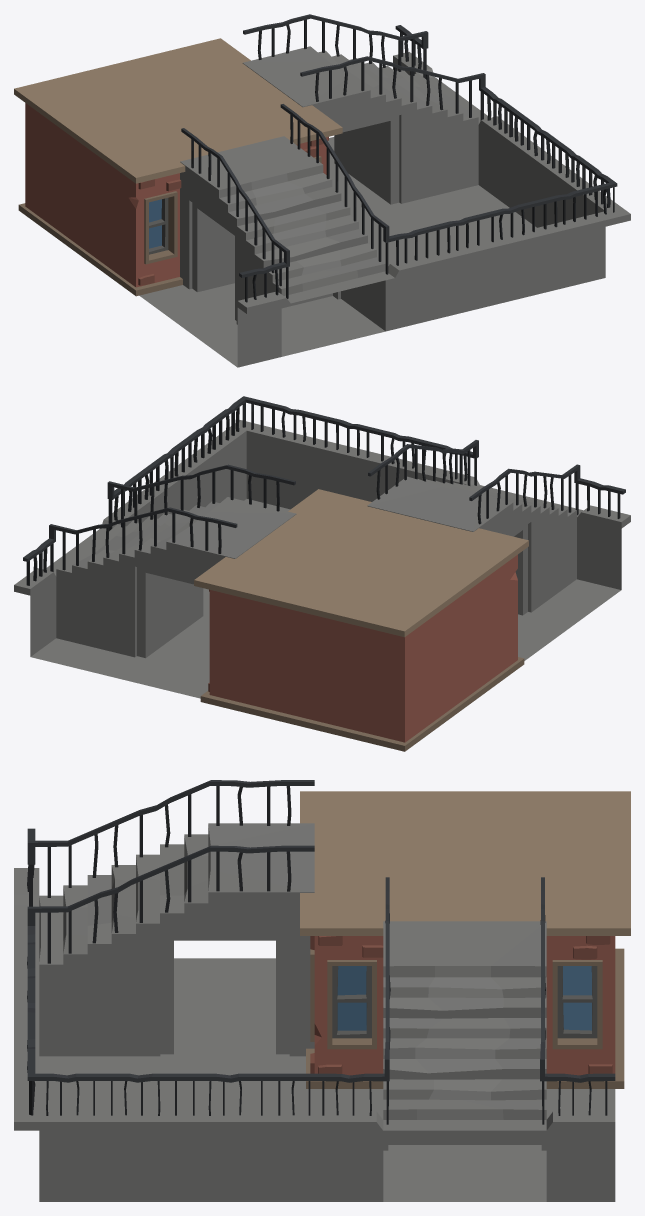
Rendered from SM_Bld_Apartment_Stairs_Corner_01.glb.
3 views of the same model, one above another, from view 1: azimuth 30°, elevation 25°; view 2: azimuth 150°, elevation 25°; view 3: azimuth 270°, elevation 25° (orthographic). The views are drawn at different scales.
Visible parts, largest first — view 1: SM_Bld_Apartment_Stairs_Corner_01; view 2: SM_Bld_Apartment_Stairs_Corner_01; view 3: SM_Bld_Apartment_Stairs_Corner_01.
Boxes of the visible parts, <box> form: SM_Bld_Apartment_Stairs_Corner_01: <box>14,14,630,367</box>; SM_Bld_Apartment_Stairs_Corner_01: <box>14,396,630,751</box>; SM_Bld_Apartment_Stairs_Corner_01: <box>14,780,630,1201</box>.
Size of the model in its own units: 0.1014 by 0.0382 by 0.1026.
Materials: 1 (1 with a texture image).
